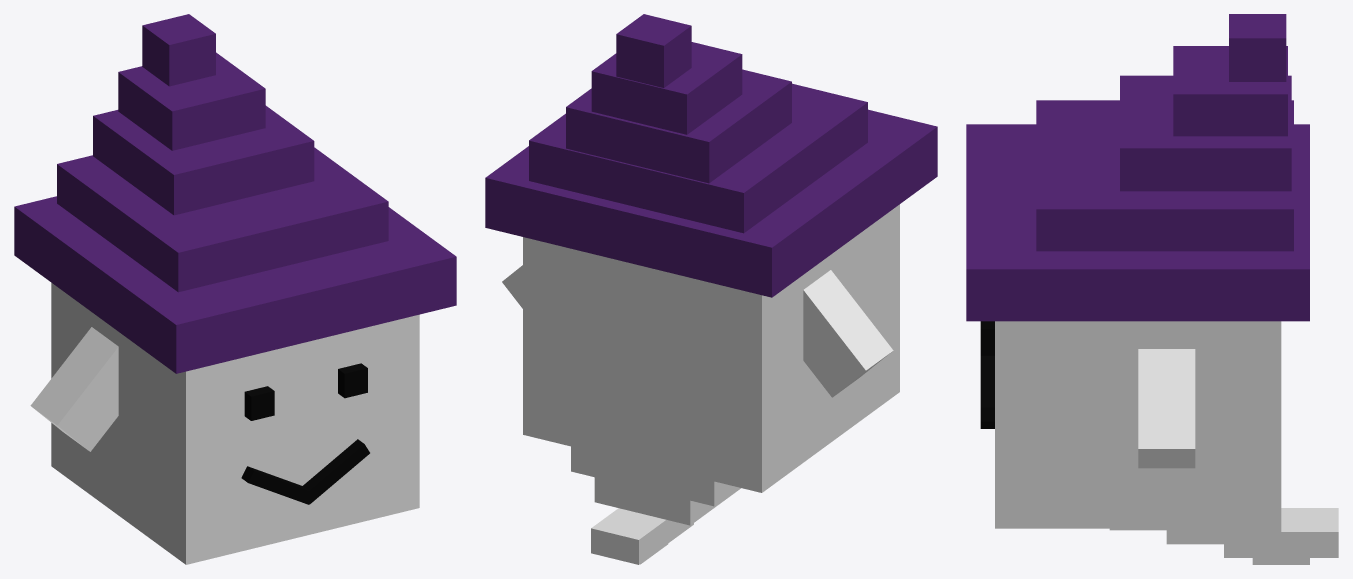
Rendered from Ghost.fbx.
3 renders of one model, left to right at view 1: azimuth 30°, elevation 25°; view 2: azimuth 150°, elevation 25°; view 3: azimuth 270°, elevation 25°, orthographic. The views are drawn at different scales.
Visible parts, largest first — view 1: MainBody, Hat1, Hat2, Hat3, Hat4, RightHand, Hat5, Mouse2, Mouse1, RightEye, LeftEye; view 2: MainBody, Hat1, Hat2, Hat3, Hat4, RightHand, Hat5, Tail1, Tail3, Tail2; view 3: MainBody, Hat1, Hat2, Hat3, Hat4, LeftHand, Hat5, Tail3, Tail2, Mouse1, LeftEye, Tail1.
Part boxes in pixels (left/top/right/bottom): MainBody: left=51, top=283, right=419, bottom=564; Hat1: left=14, top=196, right=456, bottom=373; Hat2: left=57, top=147, right=388, bottom=292; Hat3: left=93, top=105, right=314, bottom=215; Hat4: left=118, top=52, right=265, bottom=150; RightHand: left=30, top=327, right=118, bottom=451; Hat5: left=142, top=14, right=215, bottom=86; Mouse2: left=303, top=439, right=369, bottom=504; Mouse1: left=241, top=466, right=313, bottom=504; RightEye: left=244, top=386, right=274, bottom=420; LeftEye: left=338, top=363, right=367, bottom=398; MainBody: left=523, top=204, right=899, bottom=492; Hat1: left=485, top=109, right=937, bottom=297; Hat2: left=529, top=83, right=867, bottom=233; Hat3: left=566, top=69, right=791, bottom=183; Hat4: left=591, top=42, right=742, bottom=134; RightHand: left=803, top=270, right=893, bottom=397; Hat5: left=616, top=14, right=691, bottom=87; Tail1: left=571, top=446, right=739, bottom=506; Tail3: left=591, top=508, right=693, bottom=564; Tail2: left=594, top=477, right=740, bottom=525; MainBody: left=995, top=321, right=1281, bottom=528; Hat1: left=966, top=124, right=1309, bottom=321; Hat2: left=1036, top=100, right=1293, bottom=251; Hat3: left=1120, top=75, right=1291, bottom=191; Hat4: left=1173, top=46, right=1287, bottom=136; LeftHand: left=1138, top=349, right=1195, bottom=468; Hat5: left=1229, top=14, right=1286, bottom=81; Tail3: left=1224, top=508, right=1338, bottom=557; Tail2: left=1166, top=530, right=1281, bottom=544; Mouse1: left=980, top=355, right=994, bottom=407; LeftEye: left=980, top=321, right=994, bottom=355; Tail1: left=1109, top=528, right=1281, bottom=530.
Size of the model in its own units: 305 by 411 by 260.
